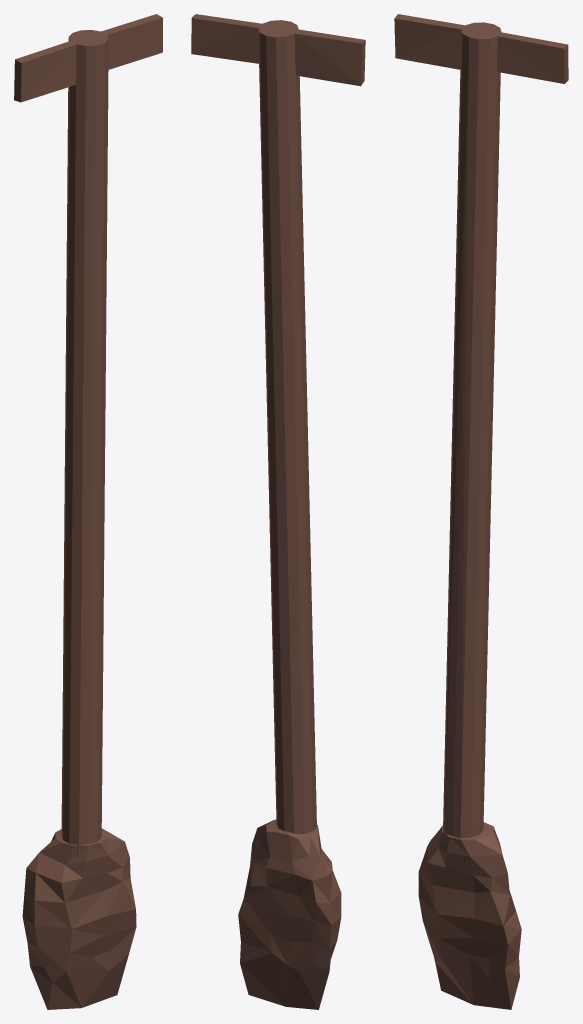
The model's file is Oar.fbx.
3 renders of one model, left to right at view 1: azimuth 30°, elevation 25°; view 2: azimuth 150°, elevation 25°; view 3: azimuth 330°, elevation 25°, orthographic.
Visible parts, largest first — view 1: mesh_1939029584, mesh_1682231665; view 2: mesh_1939029584, mesh_1682231665; view 3: mesh_1939029584, mesh_1682231665.
Boxes of the visible parts, box(x1,y1,x2,y2) form: mesh_1939029584: box(14, 14, 162, 857); mesh_1682231665: box(22, 828, 136, 1009); mesh_1939029584: box(191, 14, 365, 833); mesh_1682231665: box(238, 819, 341, 1009); mesh_1939029584: box(394, 14, 568, 845); mesh_1682231665: box(418, 822, 521, 1009).
Bounding box in the file's own units: 26.8 × 159 × 8.31.
